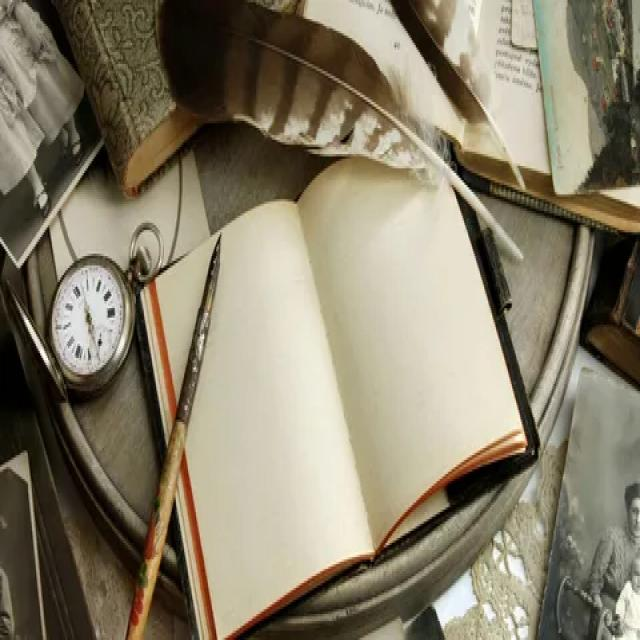book: (132, 122, 540, 640)
